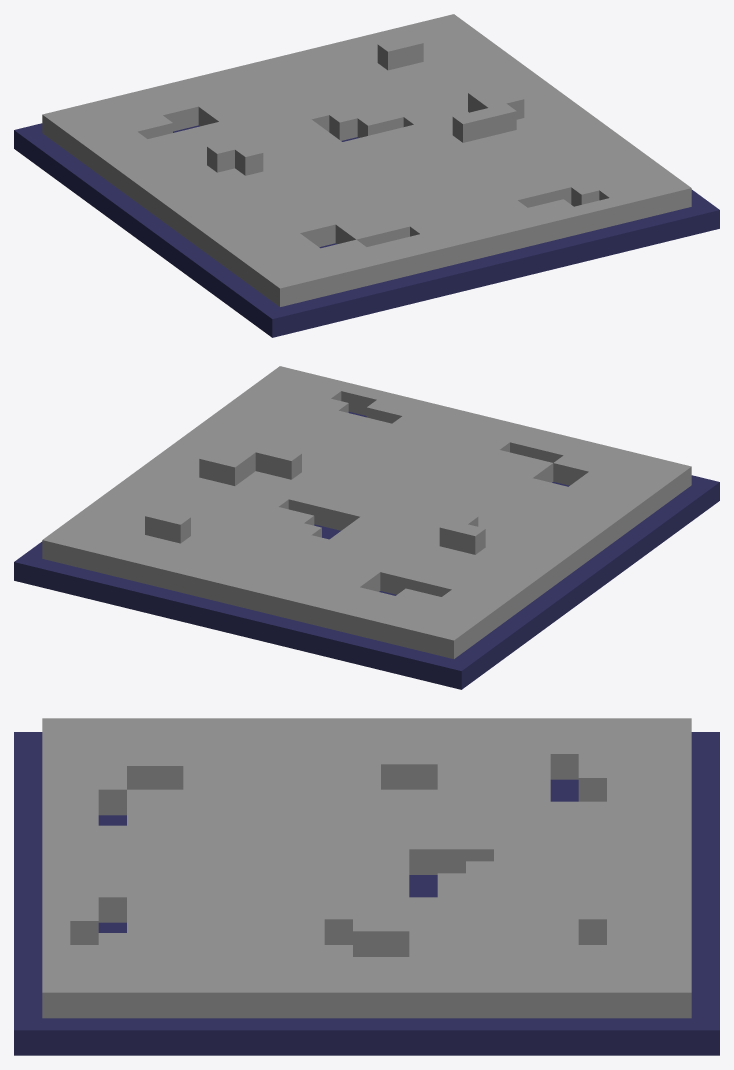
Rendered from FloorTileSmall.obj.
The picture shows the model from 3 angles, top to bottom: view 1: azimuth 30°, elevation 25°; view 2: azimuth 150°, elevation 25°; view 3: azimuth 270°, elevation 25°; orthographic projection. The views are drawn at different scales.
Bounding box in the file's own units: 25 × 3 × 25.
1 material, 1 textured.
